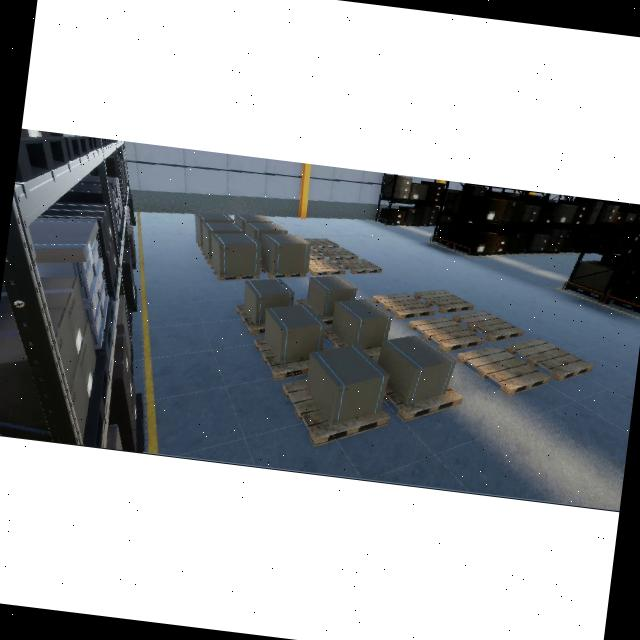wooden_pallet: (281, 379, 389, 446), (457, 345, 551, 395), (505, 337, 593, 383), (382, 382, 462, 422), (406, 315, 484, 351), (252, 336, 310, 380), (452, 309, 523, 342), (371, 291, 434, 319), (413, 289, 473, 313), (208, 259, 260, 281), (258, 259, 307, 280), (234, 304, 265, 334), (336, 258, 382, 274), (307, 258, 346, 275), (317, 246, 358, 259), (303, 238, 340, 248), (309, 246, 324, 259)
